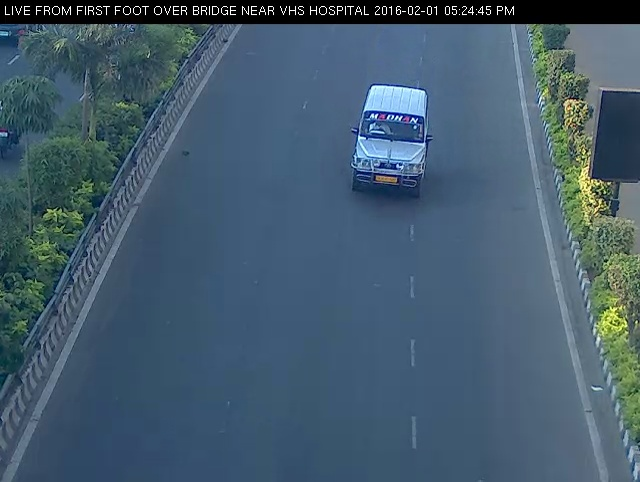Car: (339, 73, 444, 215)
